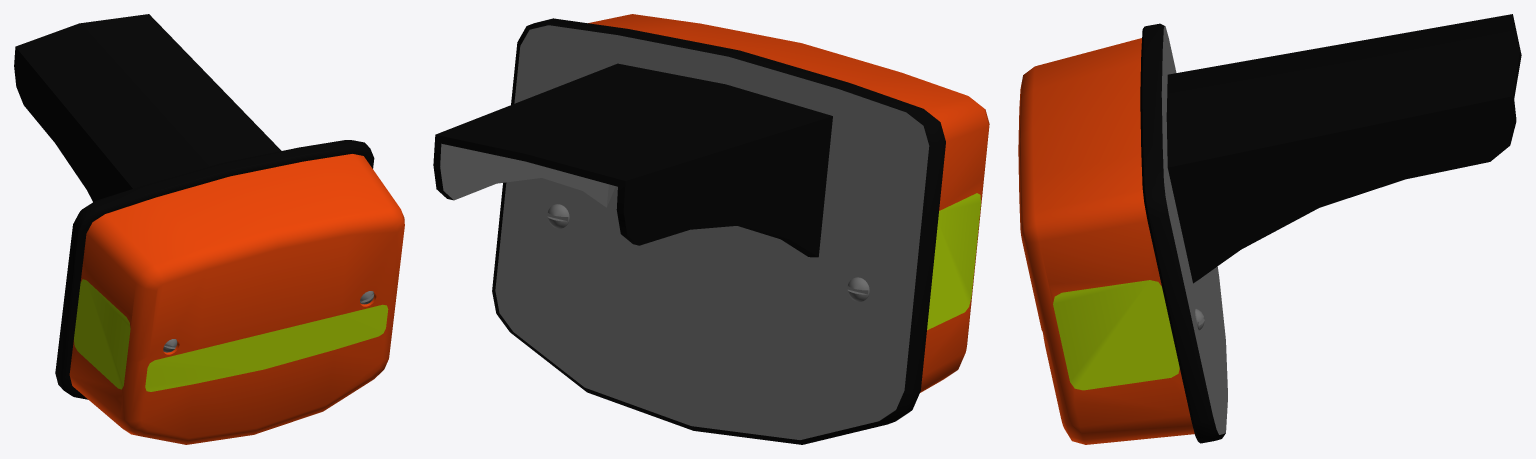
File: Backlight.fbx
3 renders of one model, left to right at view 1: azimuth 30°, elevation 25°; view 2: azimuth 150°, elevation 25°; view 3: azimuth 270°, elevation 25°, orthographic. The views are drawn at different scales.
Visible parts, largest first — view 1: BackLight; view 2: BackLight; view 3: BackLight.
Boxes of the visible parts, x1,y1,x2,y2 form: BackLight: (14,14,404,444); BackLight: (433,14,989,444); BackLight: (1018,14,1521,444).
Size of the model in its own units: 107 by 99.36 by 126.
